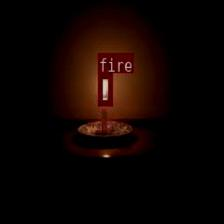fire: (97, 73, 112, 104)
